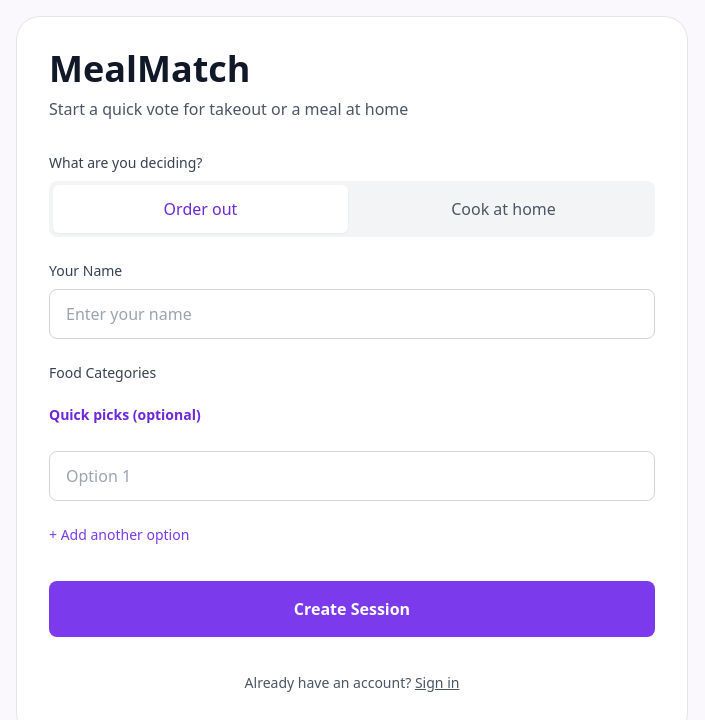
Test case: QuickSession › should remove meal inputs when clicking remove button
# Add a second meal
Click the button "+ Add another option" at x=119, y=535, box left=49, top=513, right=189, bottom=557
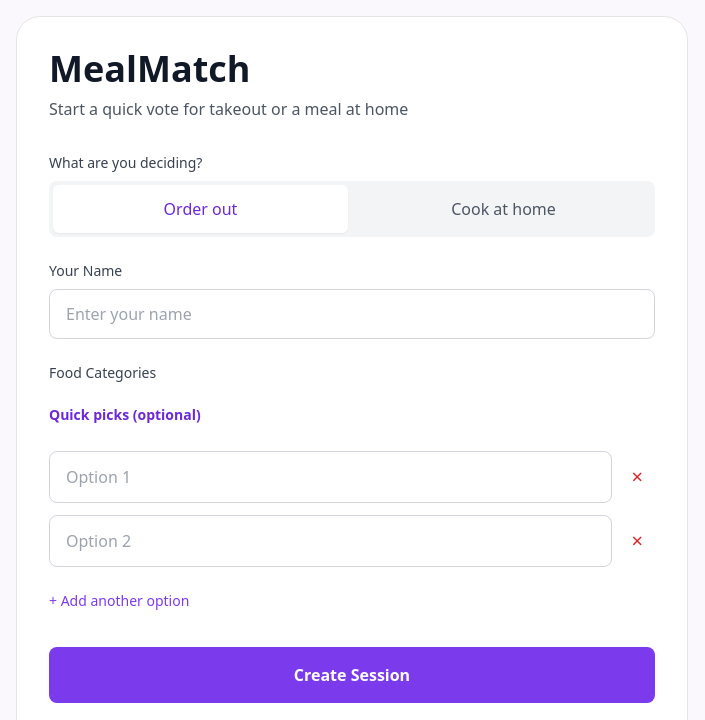
# Remove it
Click the button named "Remove option" at x=637, y=477, box left=620, top=451, right=655, bottom=503
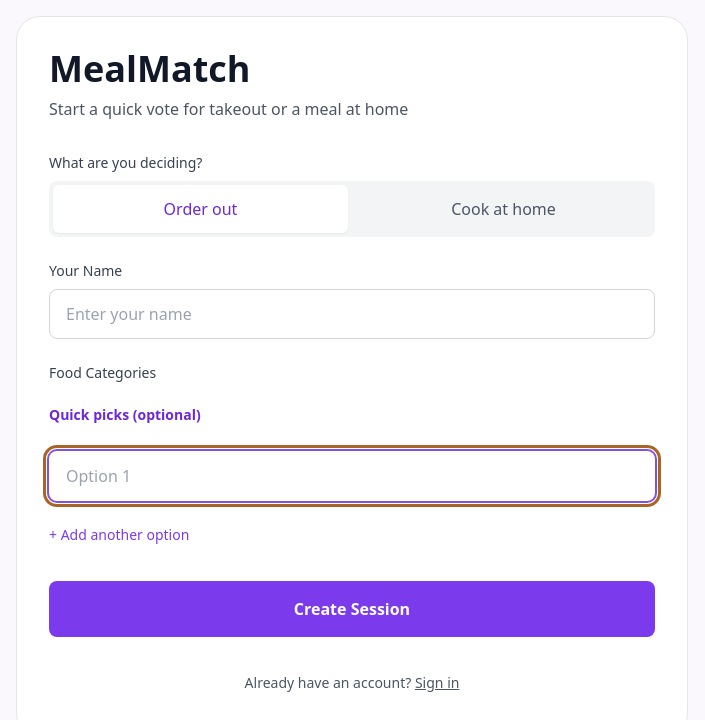
Check: the number of fields with placeholder "Option 1" is 1, box left=49, top=451, right=655, bottom=501
